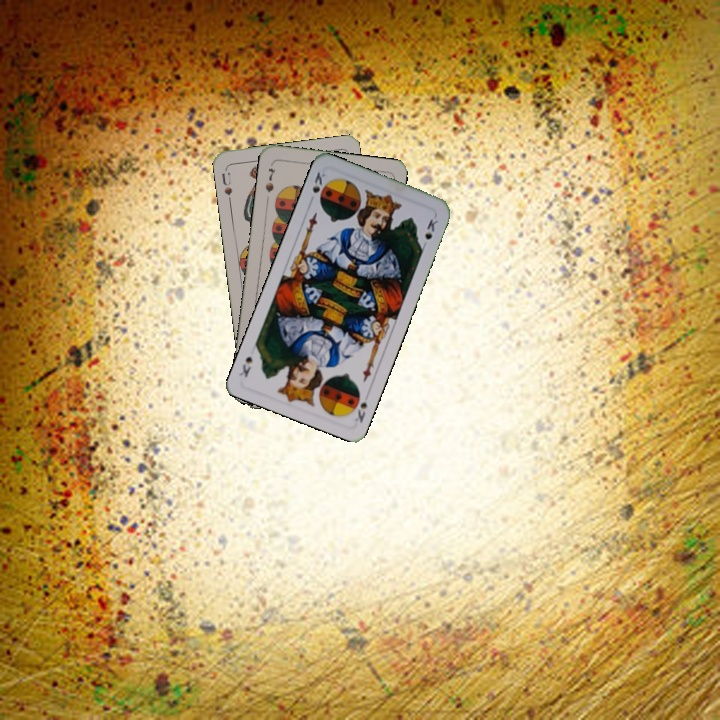S7: (261, 164, 278, 195)
SK: (308, 168, 330, 204), (351, 396, 370, 425)
SU: (218, 168, 234, 205)
